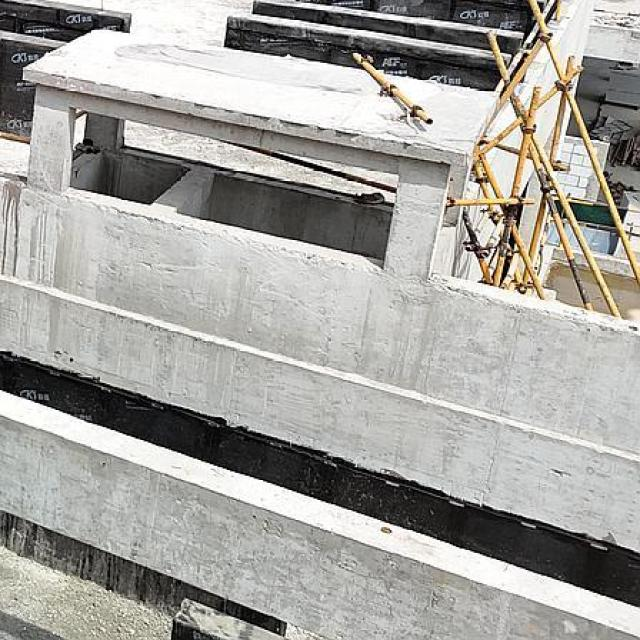Guardrail: (567, 196, 640, 238), (0, 129, 33, 145)
